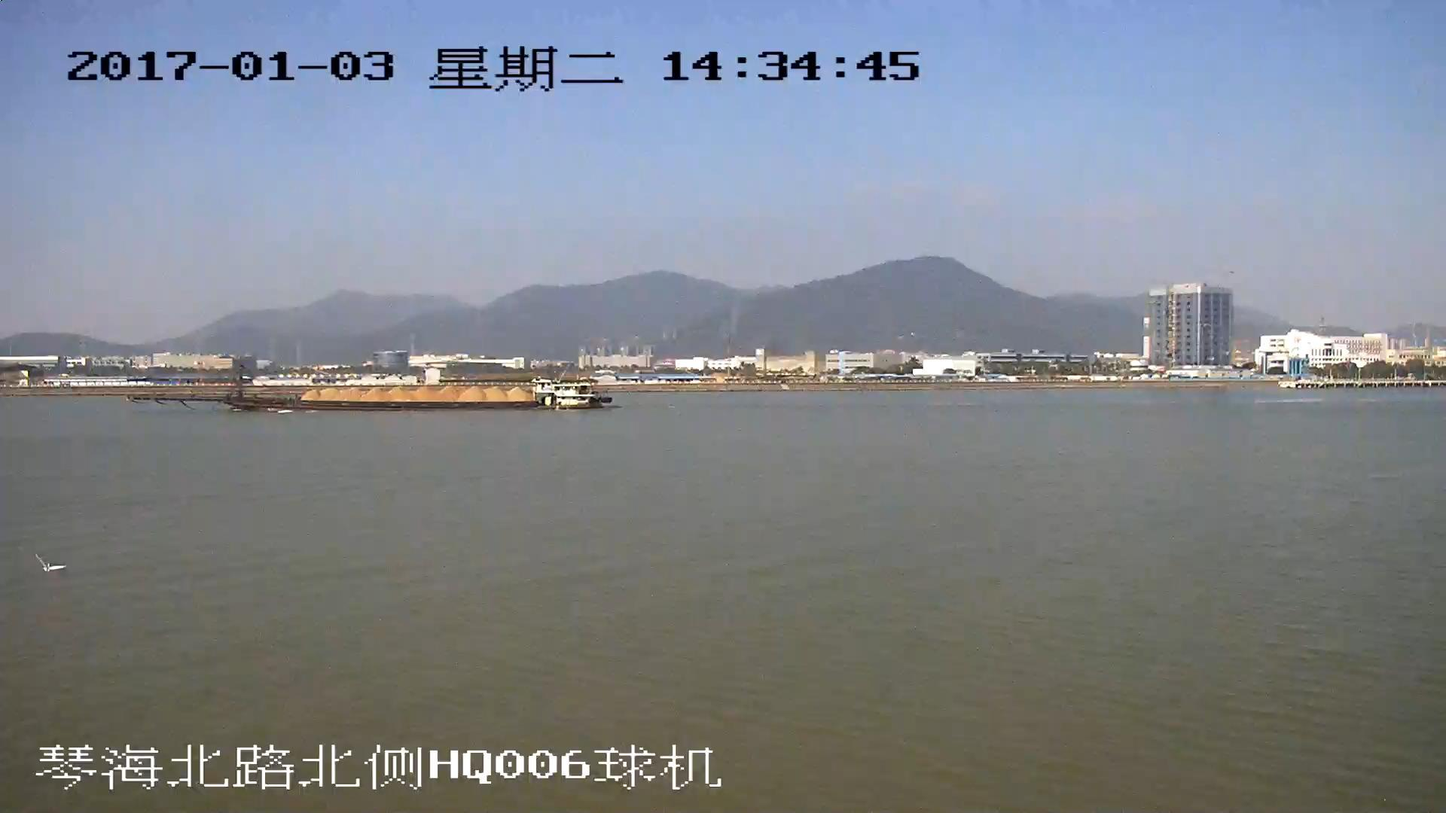ore carrier: (128, 372, 610, 412)
